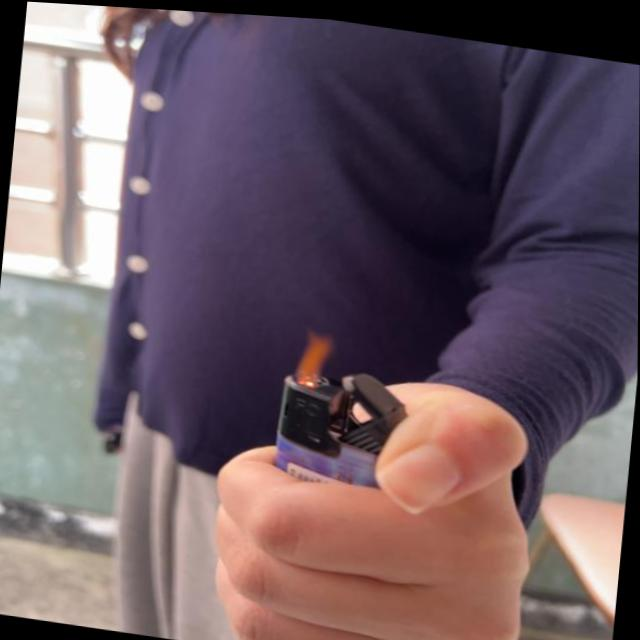Fire: (294, 321, 337, 386)
